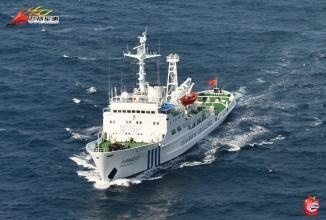warship: (83, 23, 238, 183)
